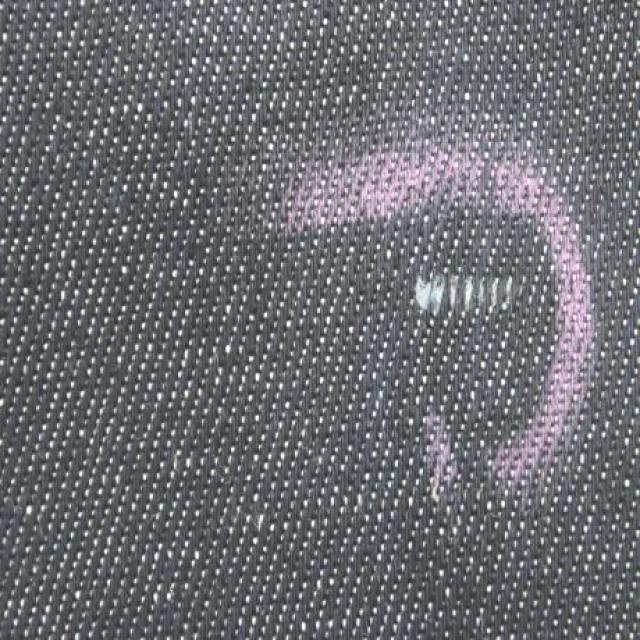Thread_other: (301, 243, 540, 351)
